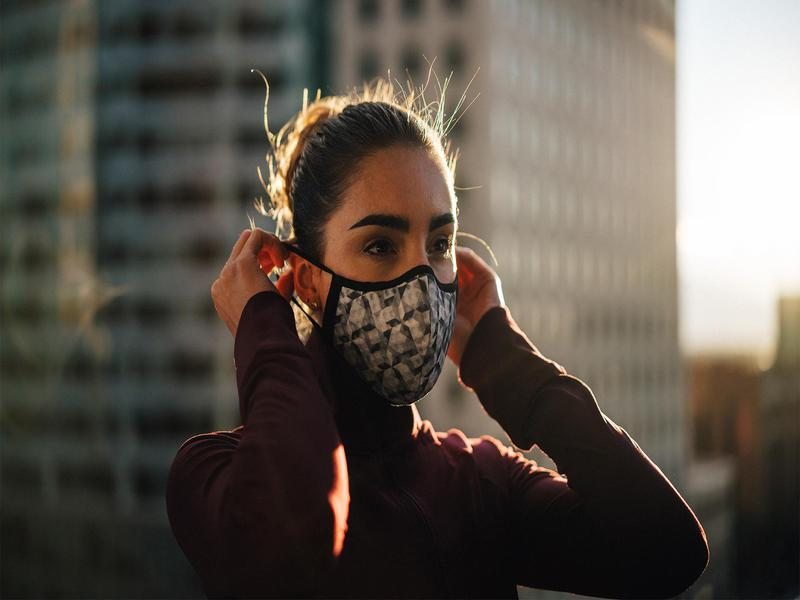with_mask: (250, 94, 456, 409)
